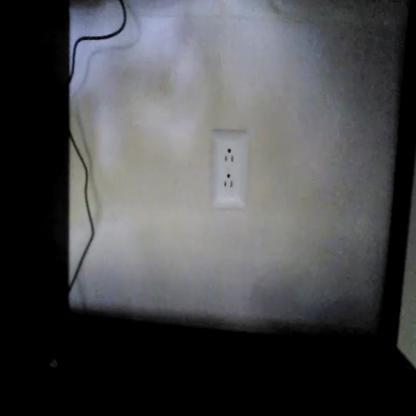OUTLET: (212, 133, 247, 212)
